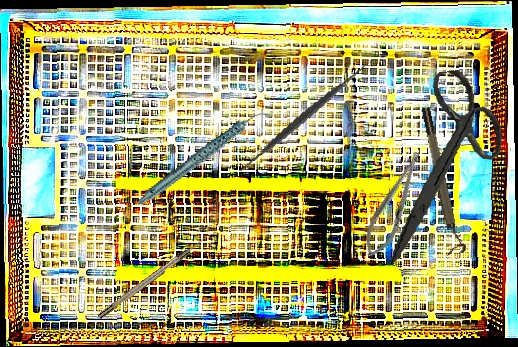Fixation Ring: (418, 105, 468, 256)
Handpiece: (123, 108, 283, 206)
Hook Surgical: (96, 235, 209, 320)
Iris Scissors: (363, 65, 518, 266)
Needle Holder: (356, 146, 432, 263)
Spatula Surgical: (232, 44, 375, 192)
